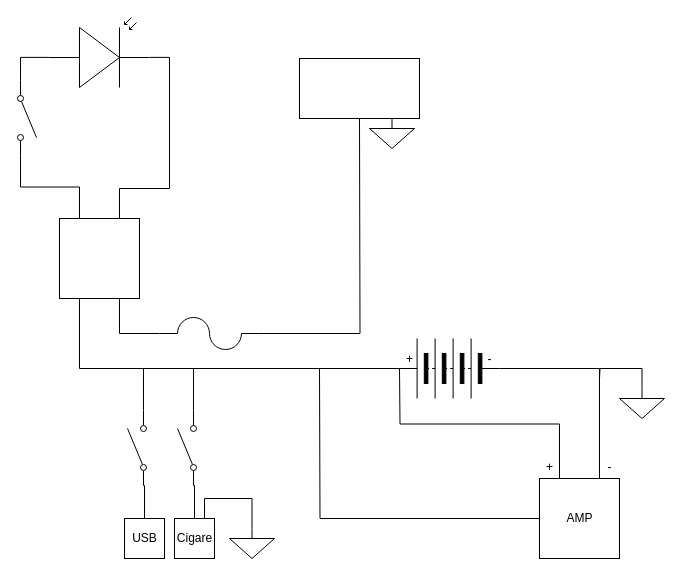
The diagram is 682 pixels wide and 576 high, and some of its shapes have lost their labels. The shapes that lost their labels are listed below. From the top down, each one's centre as x and y in pixels, then its label:
At [359,88]: "Afficheur".
At [99,258]: "MPPT".
